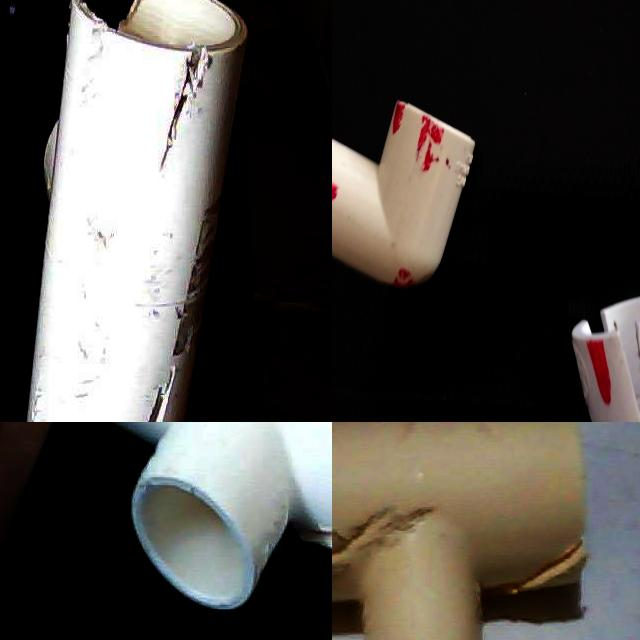Defective: (70, 0, 218, 180), (250, 442, 332, 549), (181, 184, 214, 376), (506, 534, 596, 602), (125, 323, 176, 422), (493, 234, 537, 303), (21, 350, 46, 422), (460, 100, 493, 142)
L Joint: (408, 98, 548, 330)
T Joint: (24, 0, 249, 422), (332, 422, 586, 640), (101, 422, 332, 614)
